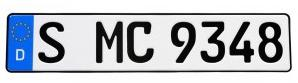3: (199, 20, 227, 64)
4: (229, 21, 256, 63)
8: (257, 21, 284, 64)
9: (170, 21, 197, 64)
C: (126, 20, 155, 65)
M: (94, 19, 125, 65)
S: (38, 20, 66, 64)
